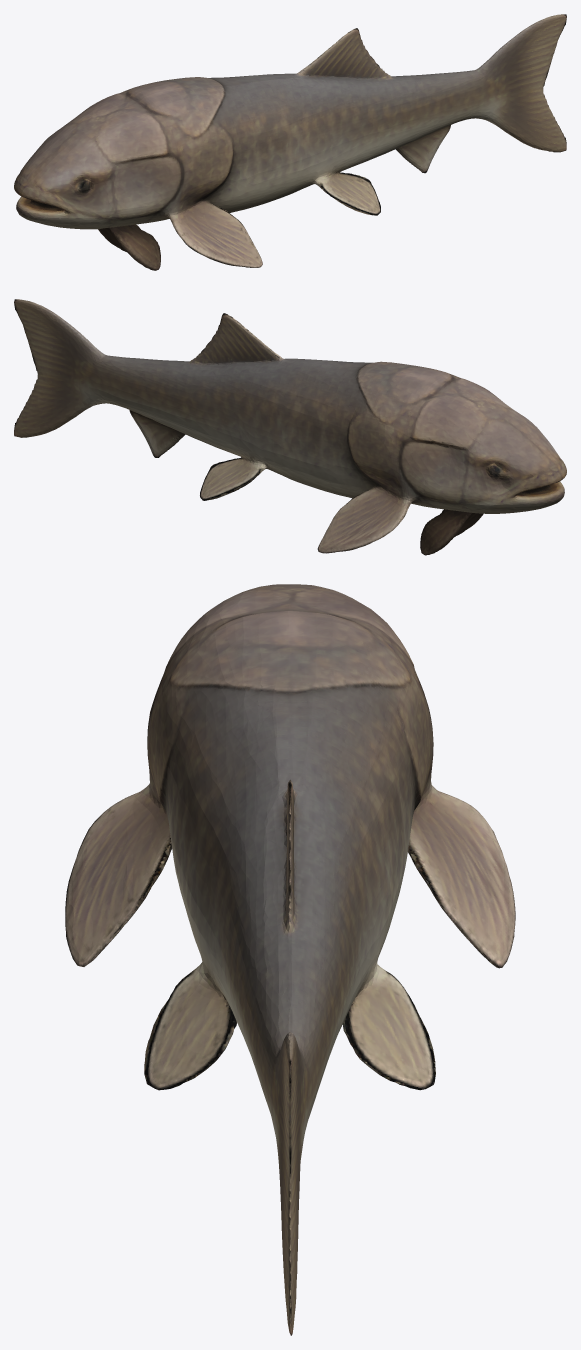
3 renders of one model, top to bottom at view 1: azimuth 30°, elevation 25°; view 2: azimuth 150°, elevation 25°; view 3: azimuth 270°, elevation 25°, orthographic. The views are drawn at different scales.
Parts seen in each view (by area): view 1: world; view 2: world; view 3: world.
Part boxes in pixels (x1,y1,x2,y2): world: (14,14,566,270); world: (14,299,566,555); world: (65,584,515,1335).
Size of the model in its own units: 1 by 0.3207 by 0.3558.
1 material, 1 textured.
